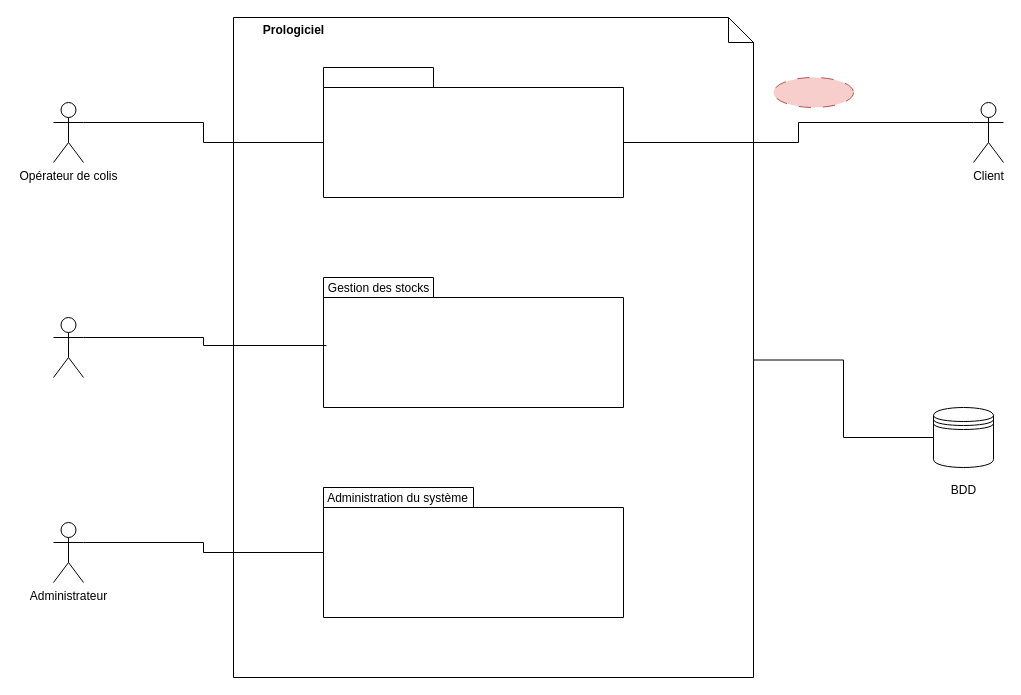
Image size: 1021x695. Some labels were removed from this diagram. Each missing label, with the centre of its shape:
Gestion des colis: (473,132)
Mailing: (813,92)
Opérateur de stock: (68,347)
